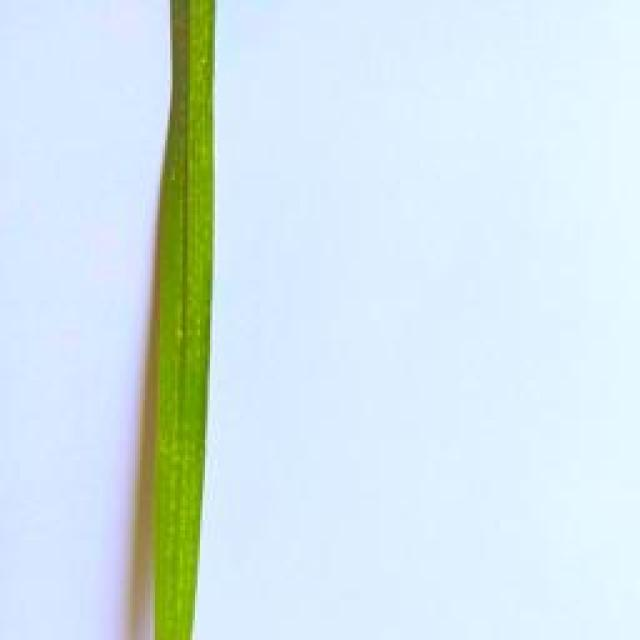Healthy-Plant: (139, 0, 231, 640)
